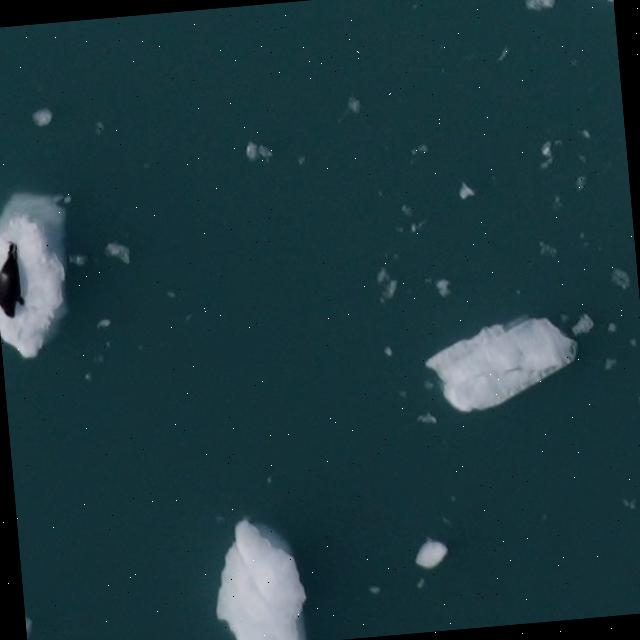seal: (0, 242, 22, 318)
